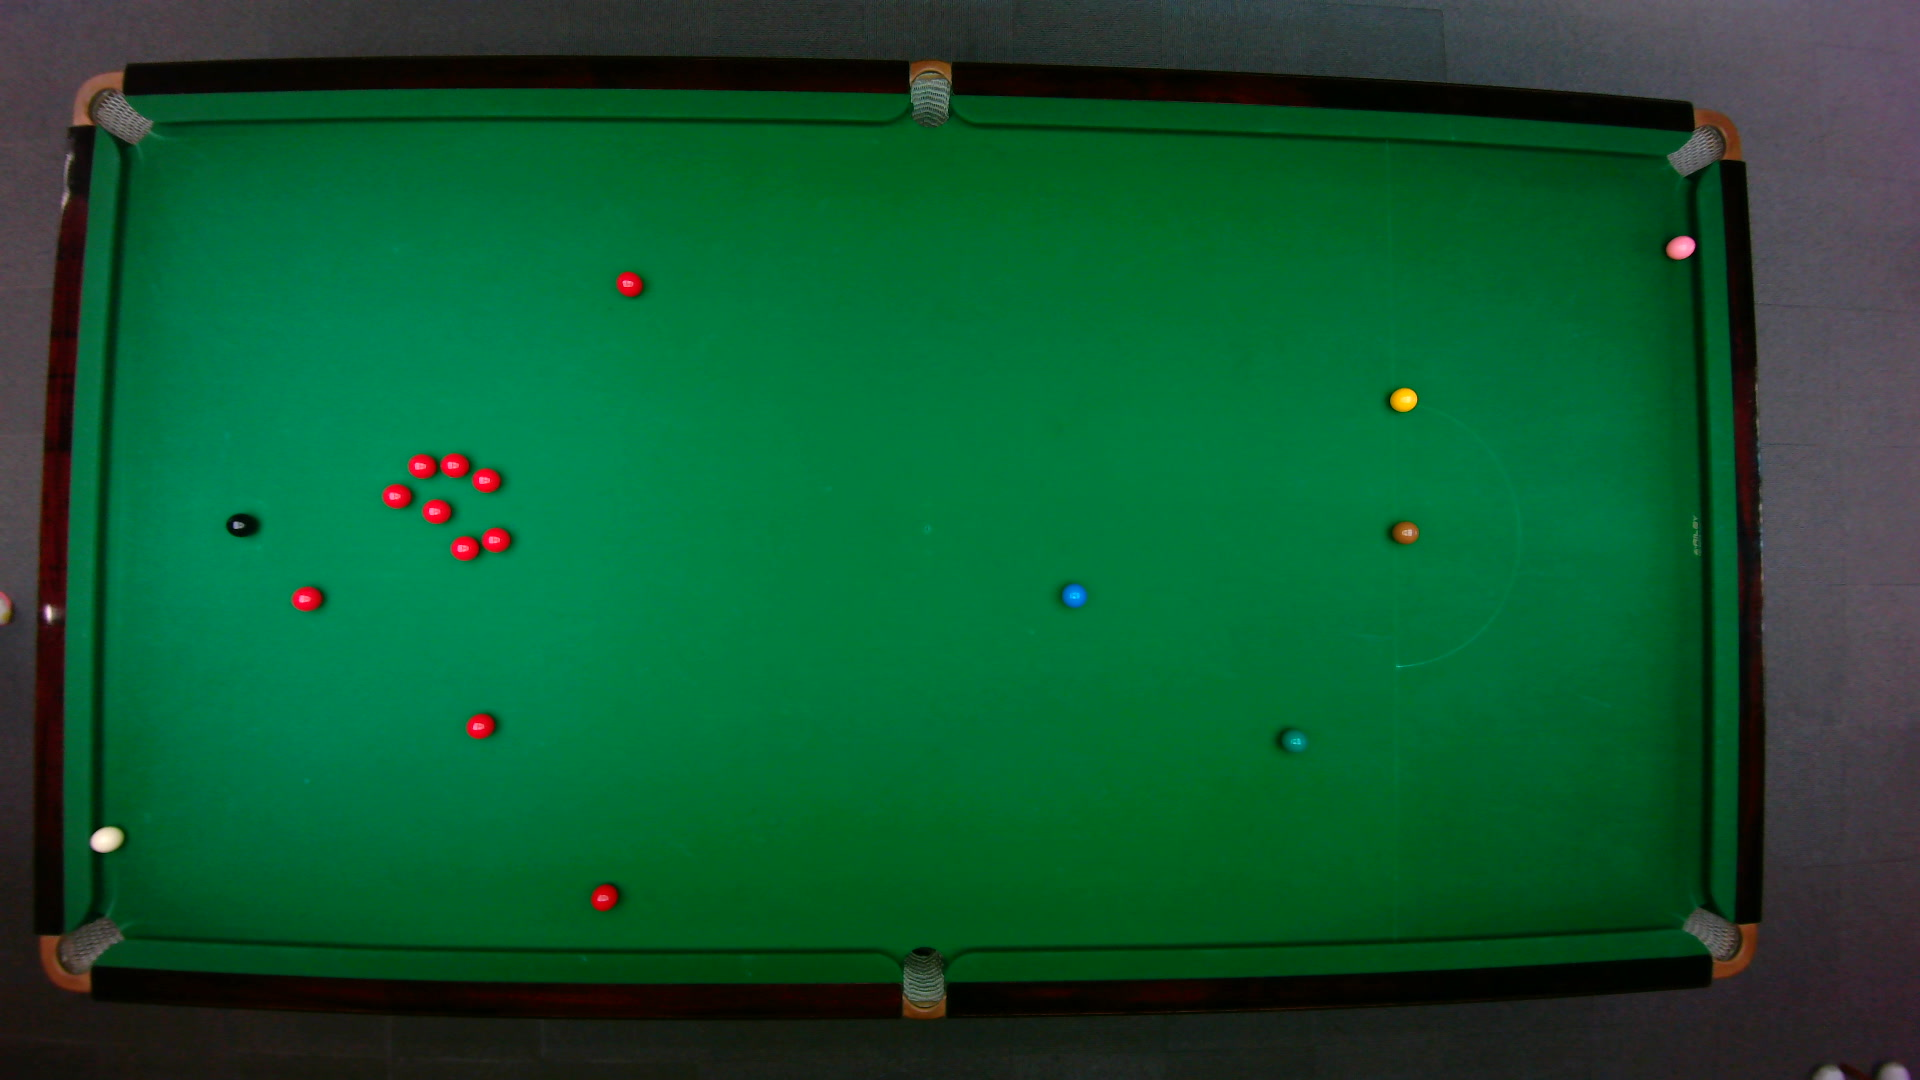bag: (38, 913, 125, 992), (69, 69, 152, 145), (1677, 905, 1756, 978), (1663, 107, 1741, 177), (901, 944, 944, 1021), (909, 57, 949, 128)
black: (224, 512, 256, 537)
blue: (1059, 582, 1087, 608)
brown: (1389, 520, 1419, 545)
green: (1278, 727, 1309, 753)
pink: (1663, 232, 1697, 260)
red: (289, 583, 323, 612), (480, 525, 512, 553), (469, 467, 502, 493), (419, 497, 452, 524), (589, 882, 618, 911), (464, 711, 495, 738), (448, 534, 480, 560), (439, 451, 469, 477), (380, 483, 411, 508), (615, 269, 644, 295), (406, 452, 436, 477)
white: (87, 823, 125, 852)
yellow: (1387, 385, 1418, 411)
zone: (1391, 401, 1520, 667)
